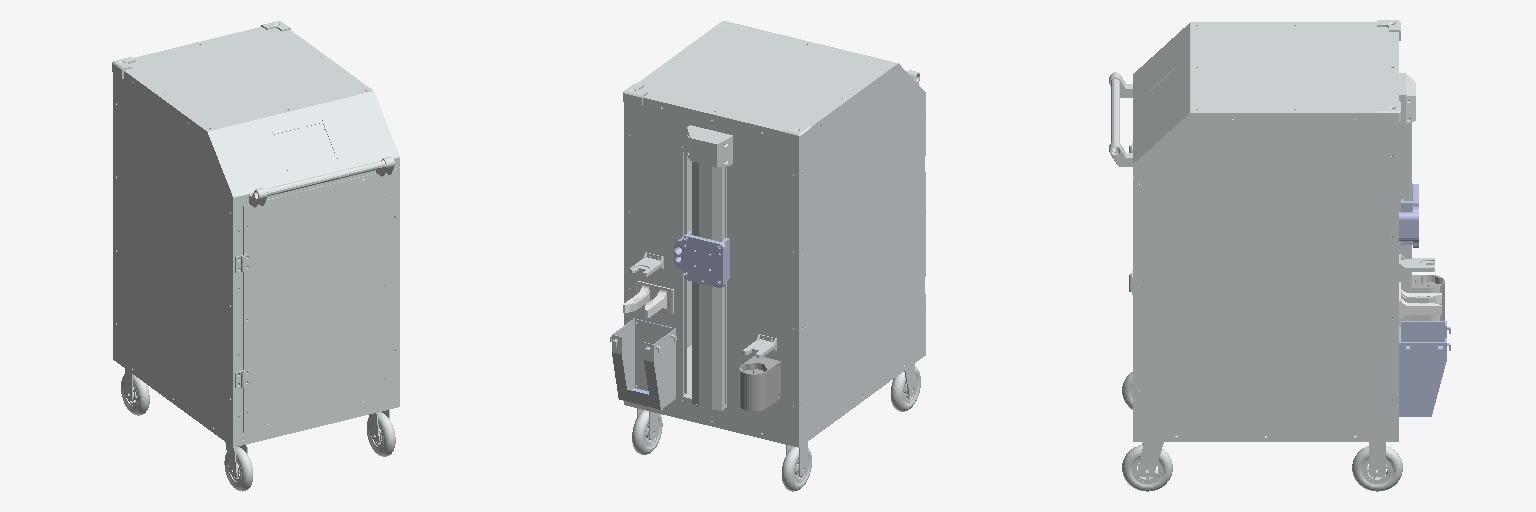
URDF robot description (abluo_urdf_1):
<?xml version="1.0" encoding="utf-8"?>
<!-- This URDF was automatically created by SolidWorks to URDF Exporter! Originally created by [author] ([email redacted]) 
     Commit Version: 1.6.0-1-g15f4949  Build Version: 1.6.7594.29634
     For more information, please see http://wiki.ros.org/sw_urdf_exporter -->
<robot
  name="abluo_urdf_1">
  <link
    name="base_link">
    <inertial>
      <origin
        xyz="0.314368340132374 0.377555022857893 0.400452017692568"
        rpy="0 0 0" />
      <mass
        value="13.1202235524193" />
      <inertia
        ixx="0.54665417885733"
        ixy="1.4238821137223E-07"
        ixz="-0.000131159040413172"
        iyy="0.46363983536376"
        iyz="-0.00931413578840215"
        izz="0.256005962598474" />
    </inertial>
    <visual>
      <origin
        xyz="0 0 0"
        rpy="0 0 0" />
      <geometry>
        <mesh
          filename="package://abluo_urdf_1/meshes/base_link.STL" />
      </geometry>
      <material
        name="">
        <color
          rgba="0.898039215686275 0.92156862745098 0.929411764705882 1" />
      </material>
    </visual>
    <collision>
      <origin
        xyz="0 0 0"
        rpy="0 0 0" />
      <geometry>
        <mesh
          filename="package://abluo_urdf_1/meshes/base_link.STL" />
      </geometry>
    </collision>
  </link>
  <link
    name="tool_holder">
    <inertial>
      <origin
        xyz="-5.4328E-05 0.035446 -0.00021215"
        rpy="0 0 0" />
      <mass
        value="0.1248" />
      <inertia
        ixx="0.0001414"
        ixy="-1.5081E-07"
        ixz="1.4383E-09"
        iyy="0.00012456"
        iyz="6.236E-07"
        izz="0.00022858" />
    </inertial>
    <visual>
      <origin
        xyz="0 0 0"
        rpy="0 0 0" />
      <geometry>
        <mesh
          filename="package://abluo_urdf_1/meshes/tool_holder.STL" />
      </geometry>
      <material
        name="">
        <color
          rgba="1 1 1 1" />
      </material>
    </visual>
    <collision>
      <origin
        xyz="0 0 0"
        rpy="0 0 0" />
      <geometry>
        <mesh
          filename="package://abluo_urdf_1/meshes/tool_holder.STL" />
      </geometry>
    </collision>
  </link>
  <joint
    name="tool_holder_to_trolley"
    type="fixed">
    <origin
      xyz="0.47532 0.67022 0.32681"
      rpy="0 0 0" />
    <parent
      link="base_link" />
    <child
      link="tool_holder" />
    <axis
      xyz="0 0 0" />
  </joint>
  <link
    name="bin">
    <inertial>
      <origin
        xyz="0.063 -0.071426 0.092008"
        rpy="0 0 0" />
      <mass
        value="0.26632" />
      <inertia
        ixx="0.0014744"
        ixy="8.8967E-19"
        ixz="4.6847E-18"
        iyy="0.0017467"
        iyz="-6.7797E-05"
        izz="0.0010769" />
    </inertial>
    <visual>
      <origin
        xyz="0 0 0"
        rpy="0 0 0" />
      <geometry>
        <mesh
          filename="package://abluo_urdf_1/meshes/bin.STL" />
      </geometry>
      <material
        name="">
        <color
          rgba="0.79216 0.81961 0.93333 1" />
      </material>
    </visual>
    <collision>
      <origin
        xyz="0 0 0"
        rpy="0 0 0" />
      <geometry>
        <mesh
          filename="package://abluo_urdf_1/meshes/bin.STL" />
      </geometry>
    </collision>
  </link>
  <joint
    name="bin_to_trolley"
    type="fixed">
    <origin
      xyz="0.41232 0.78622 0.051806"
      rpy="0 0 0" />
    <parent
      link="base_link" />
    <child
      link="bin" />
    <axis
      xyz="0 0 0" />
  </joint>
  <link
    name="refill">
    <inertial>
      <origin
        xyz="-0.099098 -0.032213 0.058669"
        rpy="0 0 0" />
      <mass
        value="0.48444" />
      <inertia
        ixx="0.00085088"
        ixy="1.1098E-17"
        ixz="1.6448E-18"
        iyy="0.00073833"
        iyz="3.4076E-05"
        izz="0.00065736" />
    </inertial>
    <visual>
      <origin
        xyz="0 0 0"
        rpy="0 0 0" />
      <geometry>
        <mesh
          filename="package://abluo_urdf_1/meshes/refill.STL" />
      </geometry>
      <material
        name="">
        <color
          rgba="0.75294 0.75294 0.75294 1" />
      </material>
    </visual>
    <collision>
      <origin
        xyz="0 0 0"
        rpy="0 0 0" />
      <geometry>
        <mesh
          filename="package://abluo_urdf_1/meshes/refill.STL" />
      </geometry>
    </collision>
  </link>
  <joint
    name="refill_to_trolley"
    type="fixed">
    <origin
      xyz="0.23641 0.73898 0.11878"
      rpy="0 0 0" />
    <parent
      link="base_link" />
    <child
      link="refill" />
    <axis
      xyz="0 0 0" />
  </joint>
  <link
    name="robot_arm_mount">
    <inertial>
      <origin
        xyz="0.01059 -0.0039437 -0.002491"
        rpy="0 0 0" />
      <mass
        value="0.42315" />
      <inertia
        ixx="0.00050278"
        ixy="6.7967E-05"
        ixz="-1.7444E-05"
        iyy="0.0011978"
        iyz="3.9255E-06"
        izz="0.00077881" />
    </inertial>
    <visual>
      <origin
        xyz="0 0 0"
        rpy="0 0 0" />
      <geometry>
        <mesh
          filename="package://abluo_urdf_1/meshes/robot_arm_mount.STL" />
      </geometry>
      <material
        name="">
        <color
          rgba="0.79216 0.81961 0.93333 1" />
      </material>
    </visual>
    <collision>
      <origin
        xyz="0 0 0"
        rpy="0 0 0" />
      <geometry>
        <mesh
          filename="package://abluo_urdf_1/meshes/robot_arm_mount.STL" />
      </geometry>
    </collision>
  </link>
  <joint
    name="robot_arm_mount_to_actuator"
    type="prismatic">
    <origin
      xyz="0.30617 0.70397 0.49087"
      rpy="0 0 0" />
    <parent
      link="base_link" />
    <child
      link="robot_arm_mount" />
    <axis
      xyz="0 0 1" />
    <limit
      lower="-0.2"
      upper="0.2"
      effort="0"
      velocity="0" />
  </joint>
</robot>

--- Facts derived from the render (not from the file) ---
3 views of the same robot in one strip: view 1: azimuth 30°, elevation 25°; view 2: azimuth 150°, elevation 25°; view 3: azimuth 270°, elevation 25° (orthographic).
Model abluo_urdf_1 with 5 links and 4 joints (1 prismatic, 3 fixed), rooted at base_link, posed all joints at 0.
Visible links, largest first — view 1: base_link; view 2: base_link, robot_arm_mount, refill, tool_holder; view 3: base_link, bin, robot_arm_mount, tool_holder.
Boxes of the visible links, box(x1,y1,x2,y2) form: base_link: box(112, 21, 399, 491); base_link: box(610, 21, 925, 491); robot_arm_mount: box(674, 230, 729, 287); refill: box(739, 355, 780, 410); tool_holder: box(623, 281, 673, 318); base_link: box(1109, 20, 1450, 491); bin: box(1399, 321, 1450, 416); robot_arm_mount: box(1399, 183, 1418, 247); tool_holder: box(1399, 282, 1441, 326).
Size in the robot's own frame: 0.532 by 0.8375 by 1.05 metres.
5 mesh visuals loaded from 5 distinct referenced files (5 binary STL).